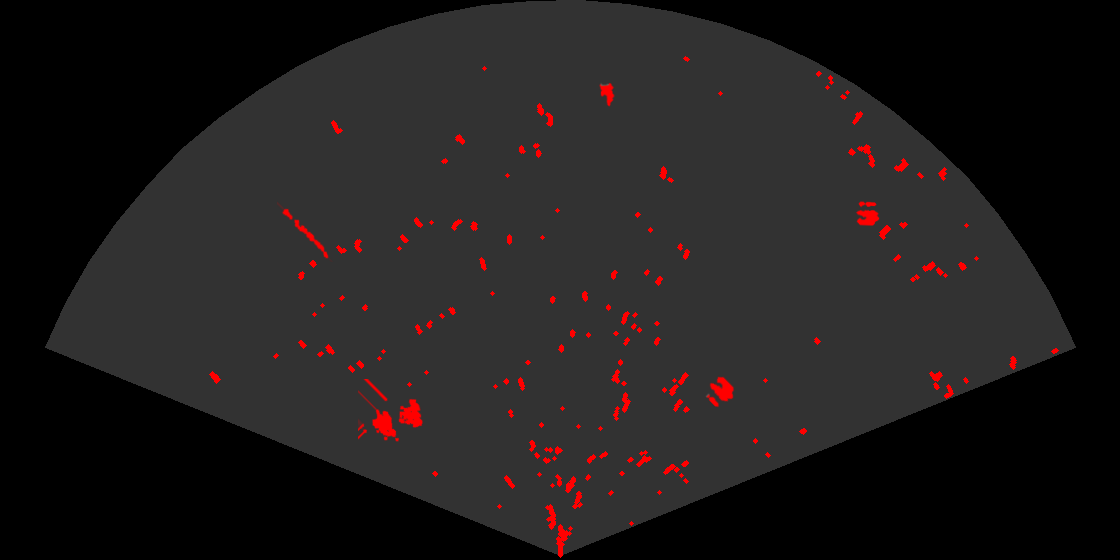AUV: (598, 81, 615, 108)
ball: (705, 375, 736, 409), (854, 200, 881, 227)
cage: (358, 379, 424, 443)
chain: (277, 200, 334, 262)
